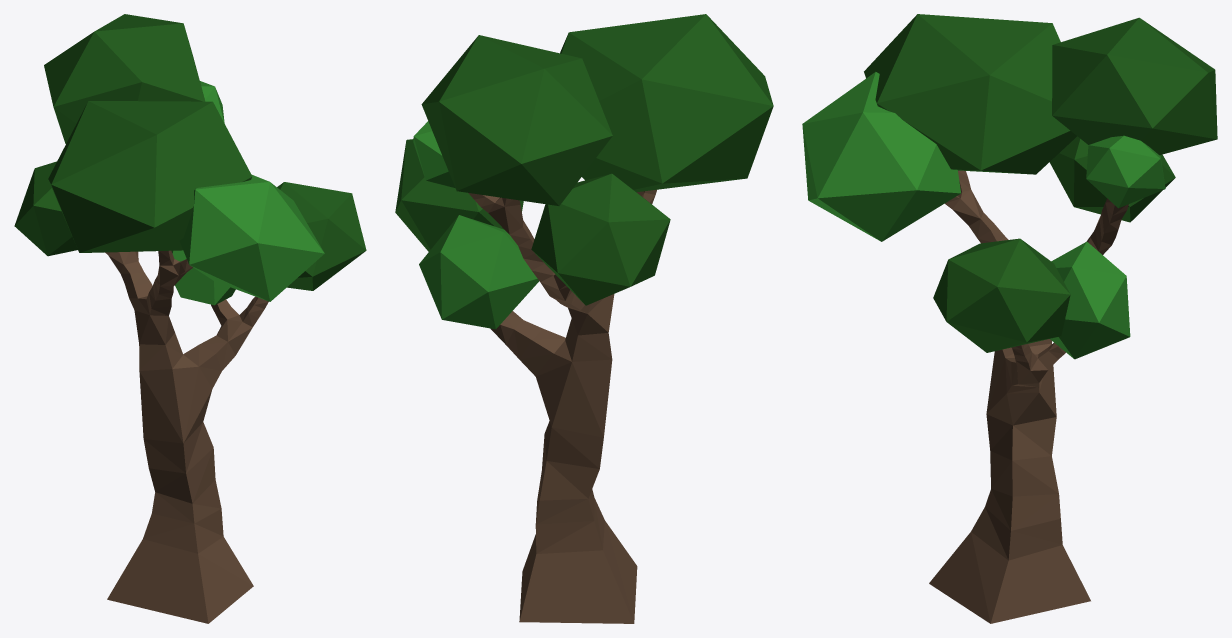
File: tree3.glb
3 views of the same model, side by side, from view 1: azimuth 30°, elevation 25°; view 2: azimuth 150°, elevation 25°; view 3: azimuth 270°, elevation 25° (orthographic). The views are drawn at different scales.
Parts seen in each view (by area): view 1: Leaves.002, Trunk.002; view 2: Leaves.002, Trunk.002; view 3: Leaves.002, Trunk.002.
Part boxes in pixels (bbox=[...]): Leaves.002: bbox=[14, 14, 366, 305]; Trunk.002: bbox=[105, 250, 268, 623]; Leaves.002: bbox=[395, 14, 773, 329]; Trunk.002: bbox=[468, 189, 656, 623]; Leaves.002: bbox=[802, 14, 1217, 359]; Trunk.002: bbox=[929, 170, 1128, 623].
Bounding box in the file's own units: 3.83 × 6.11 × 4.1.
